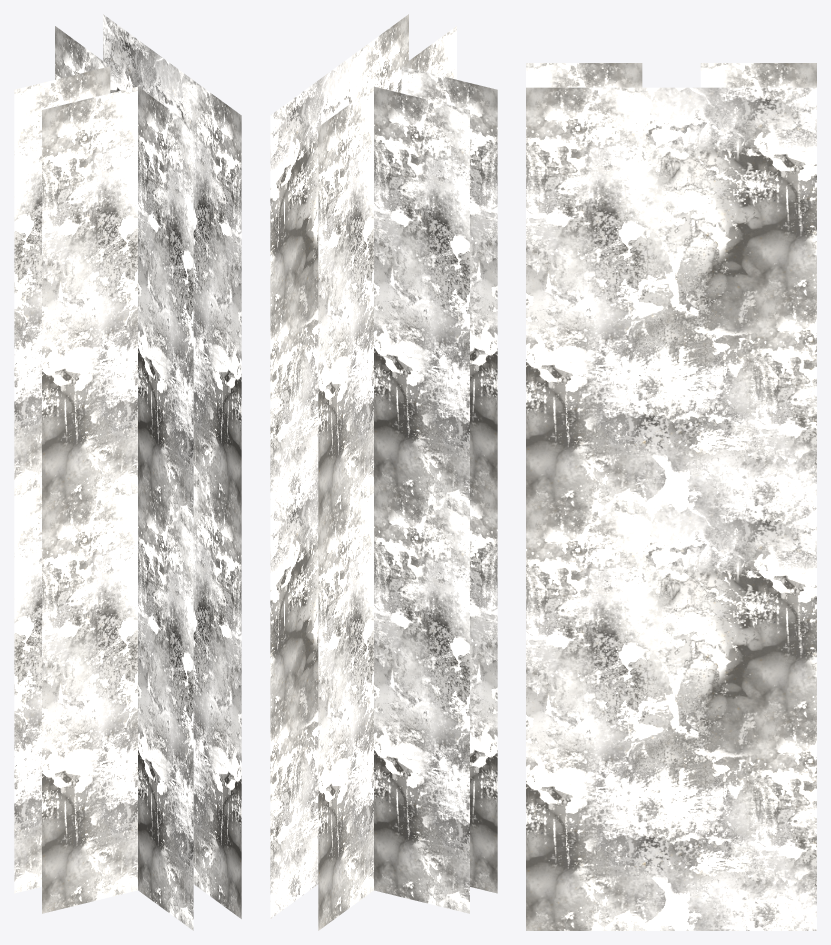
File: SM_wall_A_int_Tcorner_01_01.fbx
The picture shows the model from 3 angles, left to right: view 1: azimuth 30°, elevation 25°; view 2: azimuth 150°, elevation 25°; view 3: azimuth 270°, elevation 25°; orthographic projection. The views are drawn at different scales.
Visible parts, largest first — view 1: SM_wall_A_int_Tcorner_01_01_LOD0; view 2: SM_wall_A_int_Tcorner_01_01_LOD0; view 3: SM_wall_A_int_Tcorner_01_01_LOD0.
Boxes of the visible parts, left/top/right/bottom form: SM_wall_A_int_Tcorner_01_01_LOD0: left=14, top=14, right=241, bottom=930; SM_wall_A_int_Tcorner_01_01_LOD0: left=270, top=14, right=497, bottom=930; SM_wall_A_int_Tcorner_01_01_LOD0: left=526, top=63, right=816, bottom=930.
Size of the model in its own units: 75 by 125 by 400.
Materials: 1 (1 with a texture image).
